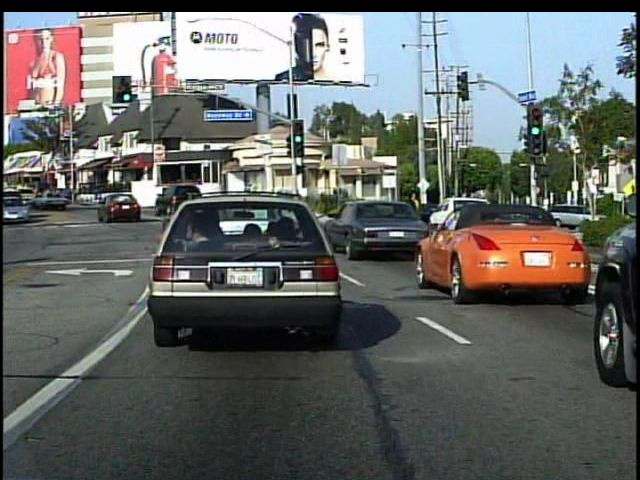person: (404, 189, 423, 229), (401, 192, 419, 232)
